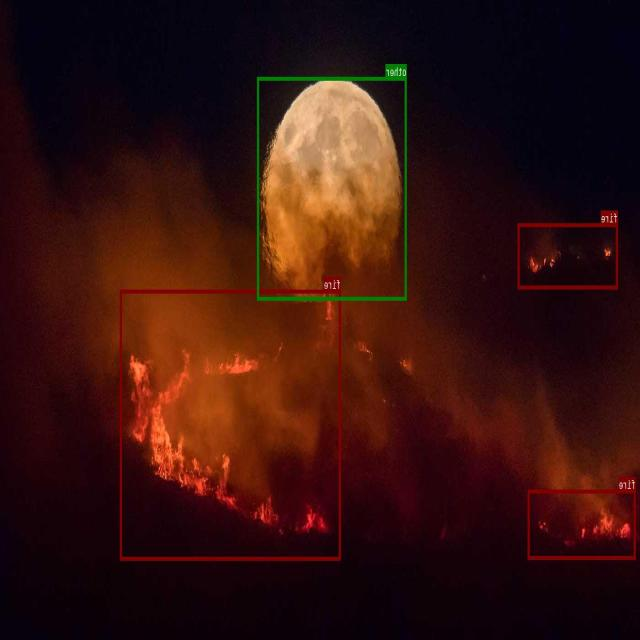fire: (120, 289, 342, 559), (528, 489, 636, 559), (518, 223, 618, 288)
other: (258, 76, 408, 300)
